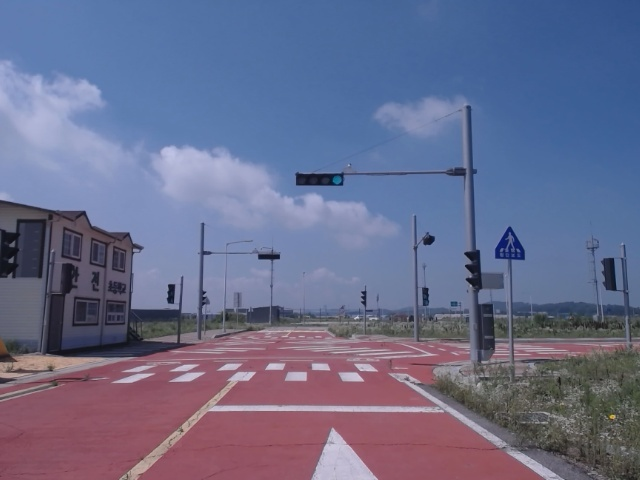straight_green_4: (296, 174, 345, 186)
